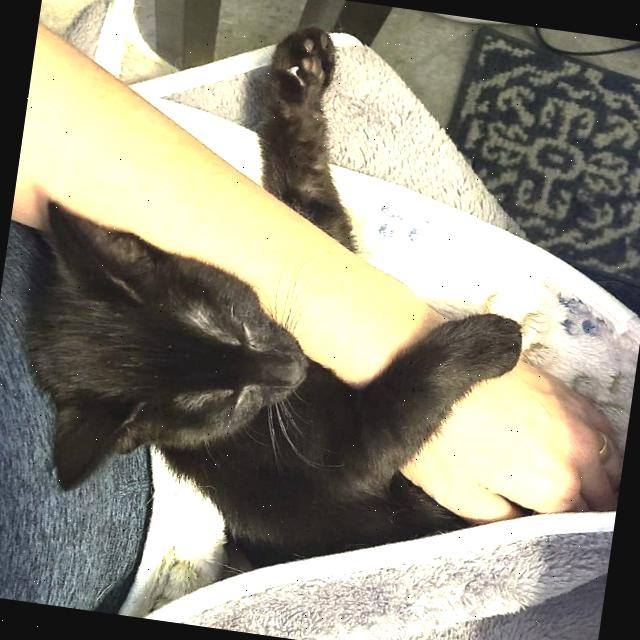bombay_cat: (0, 193, 344, 528)
